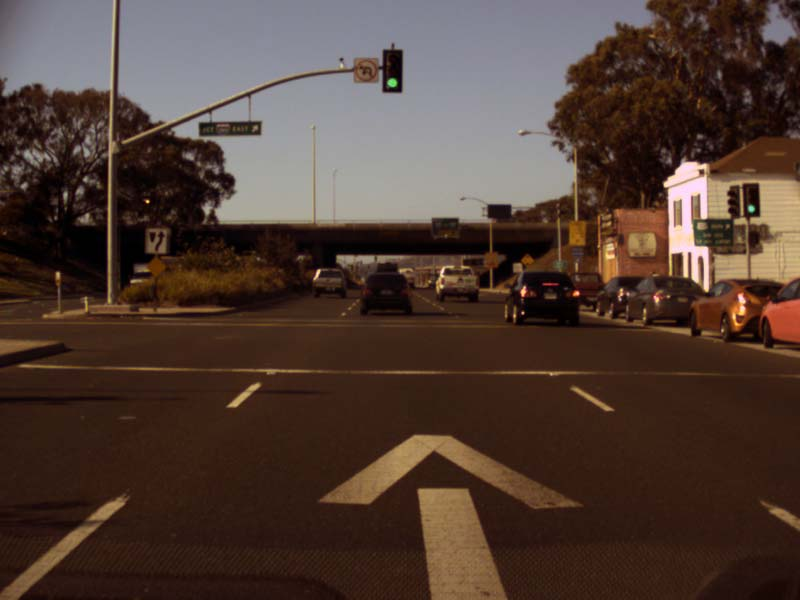Green: (382, 49, 401, 92), (742, 182, 759, 217)
